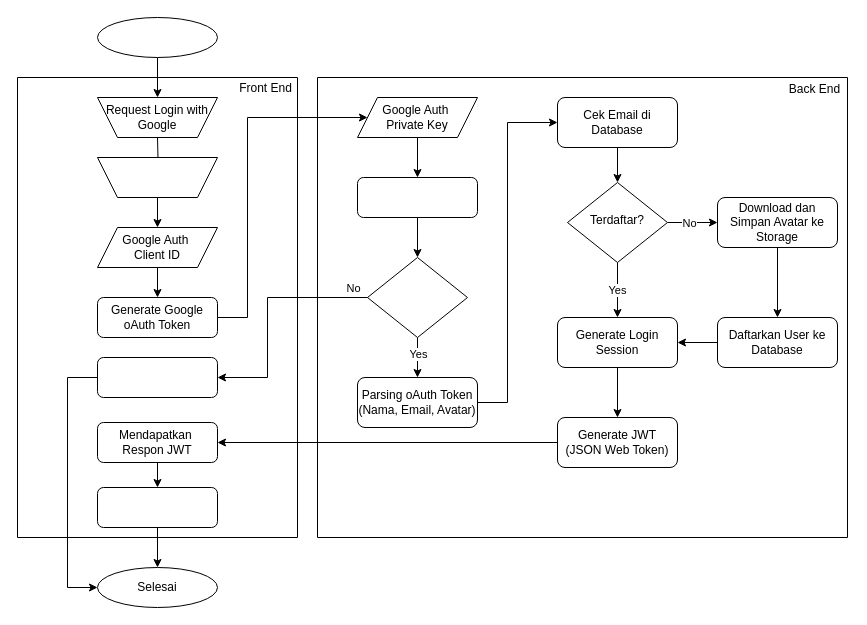
Image size: 867x625. Some labels were removed from this diagram. Here are the shapes that lost their labels. From the top down, the centre of each, then its label:
point 157,37: Mulai
point 157,177: User Memilih Email
point 417,197: Verifikasi oAuth Token
point 417,297: Valid?
point 157,377: Mendapatkan Respon Gagal
point 157,507: Simpen JWT ke Local Storage
